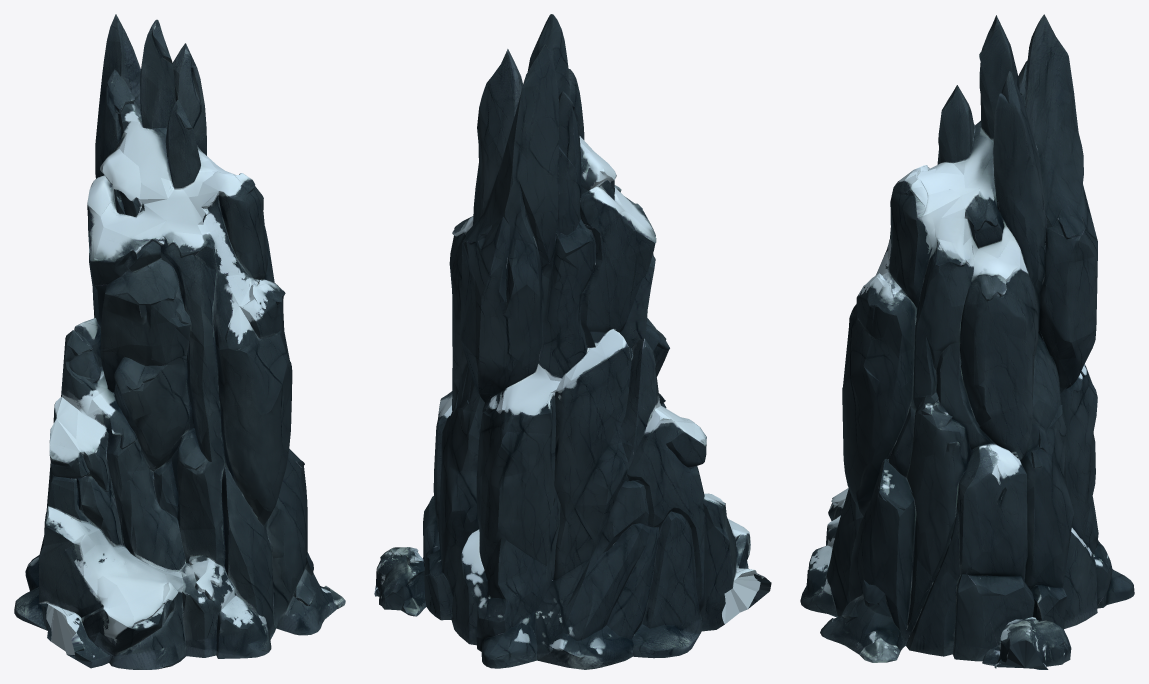
The model's file is cover_full_snow.A.trim.glb.
3 renders of one model, left to right at view 1: azimuth 30°, elevation 25°; view 2: azimuth 150°, elevation 25°; view 3: azimuth 270°, elevation 25°, orthographic. The views are drawn at different scales.
Size of the model in its own units: 0.9957 by 1.85 by 0.9613.
Materials: 1 (1 with a texture image).
